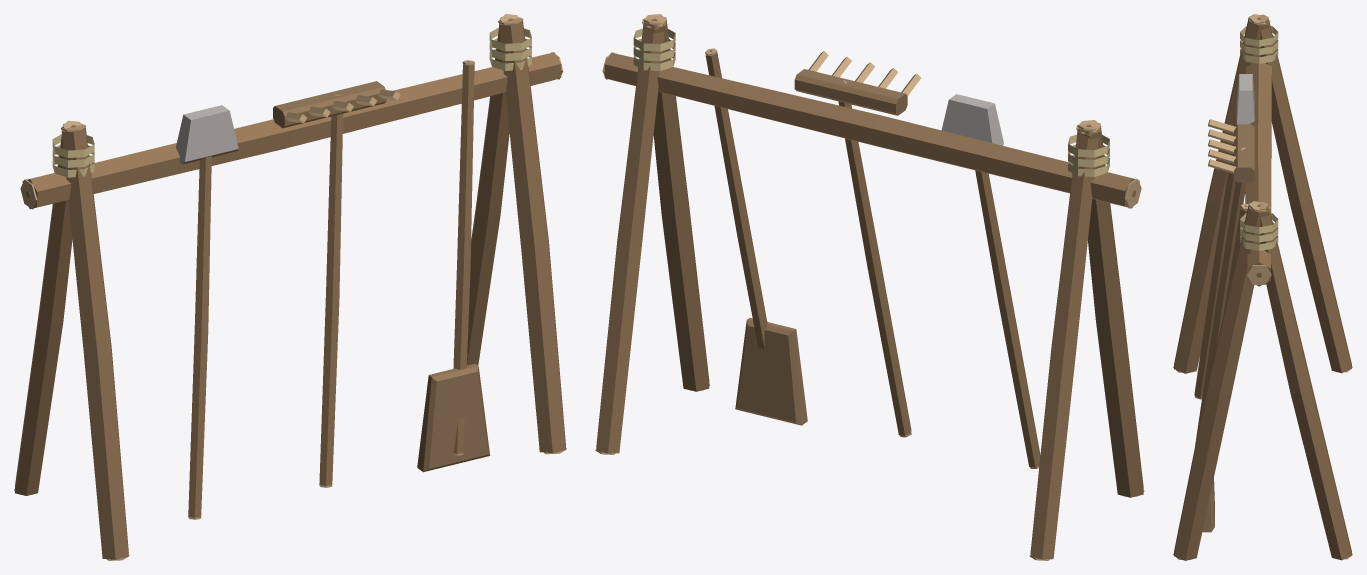
Rendered from yard_tool_rack.glb.
The picture shows the model from 3 angles, left to right: view 1: azimuth 30°, elevation 25°; view 2: azimuth 150°, elevation 25°; view 3: azimuth 270°, elevation 25°; orthographic projection. The views are drawn at different scales.
Visible parts, largest first — view 1: yard_tool_rack; view 2: yard_tool_rack; view 3: yard_tool_rack.
Part boxes in pixels (x1=…): yard_tool_rack: x1=14, y1=14, x2=566, y2=560; yard_tool_rack: x1=595, y1=14, x2=1144, y2=560; yard_tool_rack: x1=1173, y1=14, x2=1352, y2=560.
Bounding box in the file's own units: 1.81 × 1.31 × 0.609.
